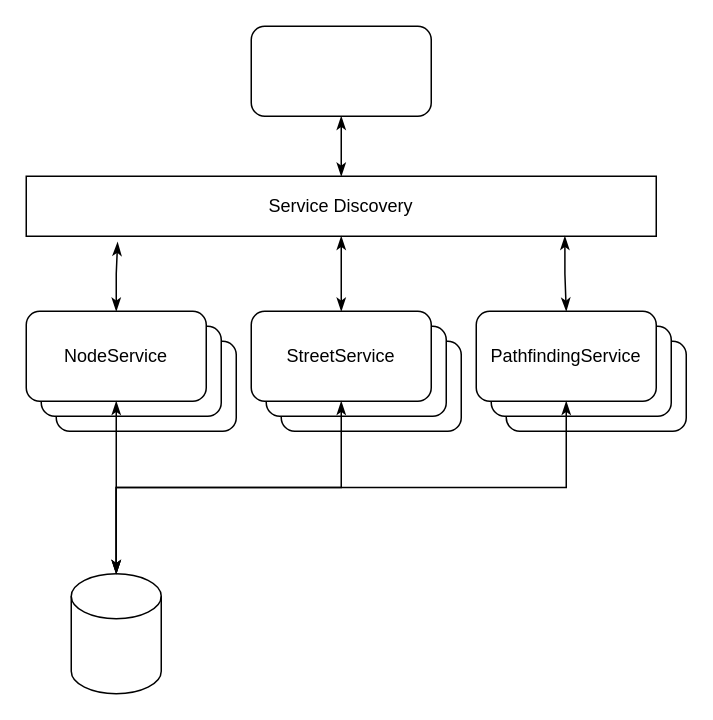
Image size: 713x720. Some labels were removed from this diagram. Here are the shapes that lost their labels. From the top down, the centre of each, then its label:
point (340, 70): User-Interface
point (115, 633): Data
